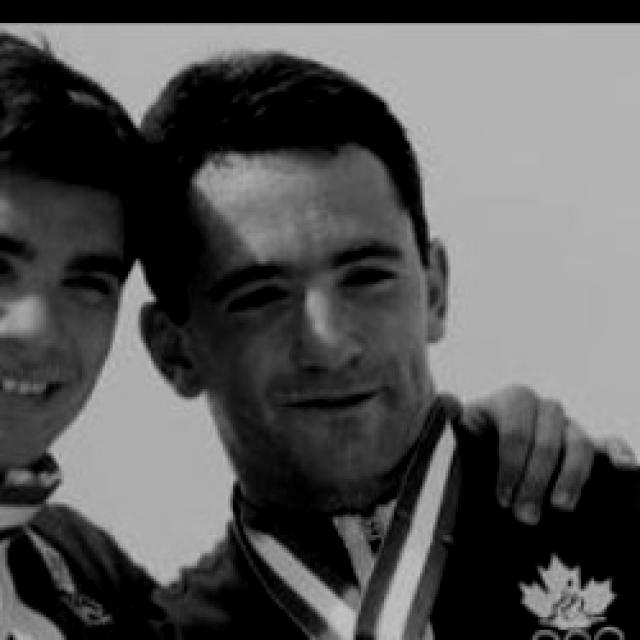real: (164, 138, 444, 497), (0, 145, 127, 474), (199, 238, 429, 341), (0, 236, 108, 305)
